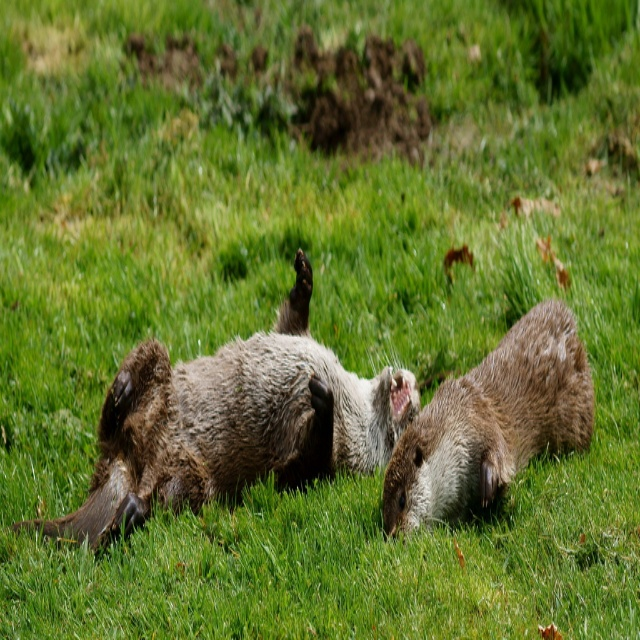Otter: (7, 249, 421, 556), (382, 295, 595, 553)
